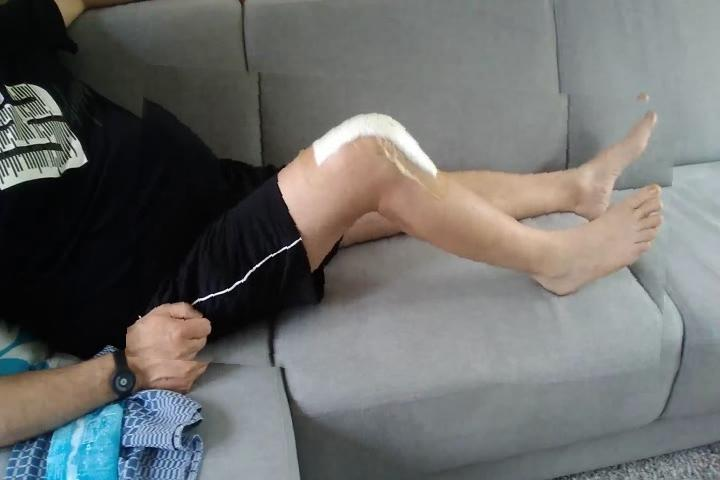lower_body: (131, 74, 675, 385)
